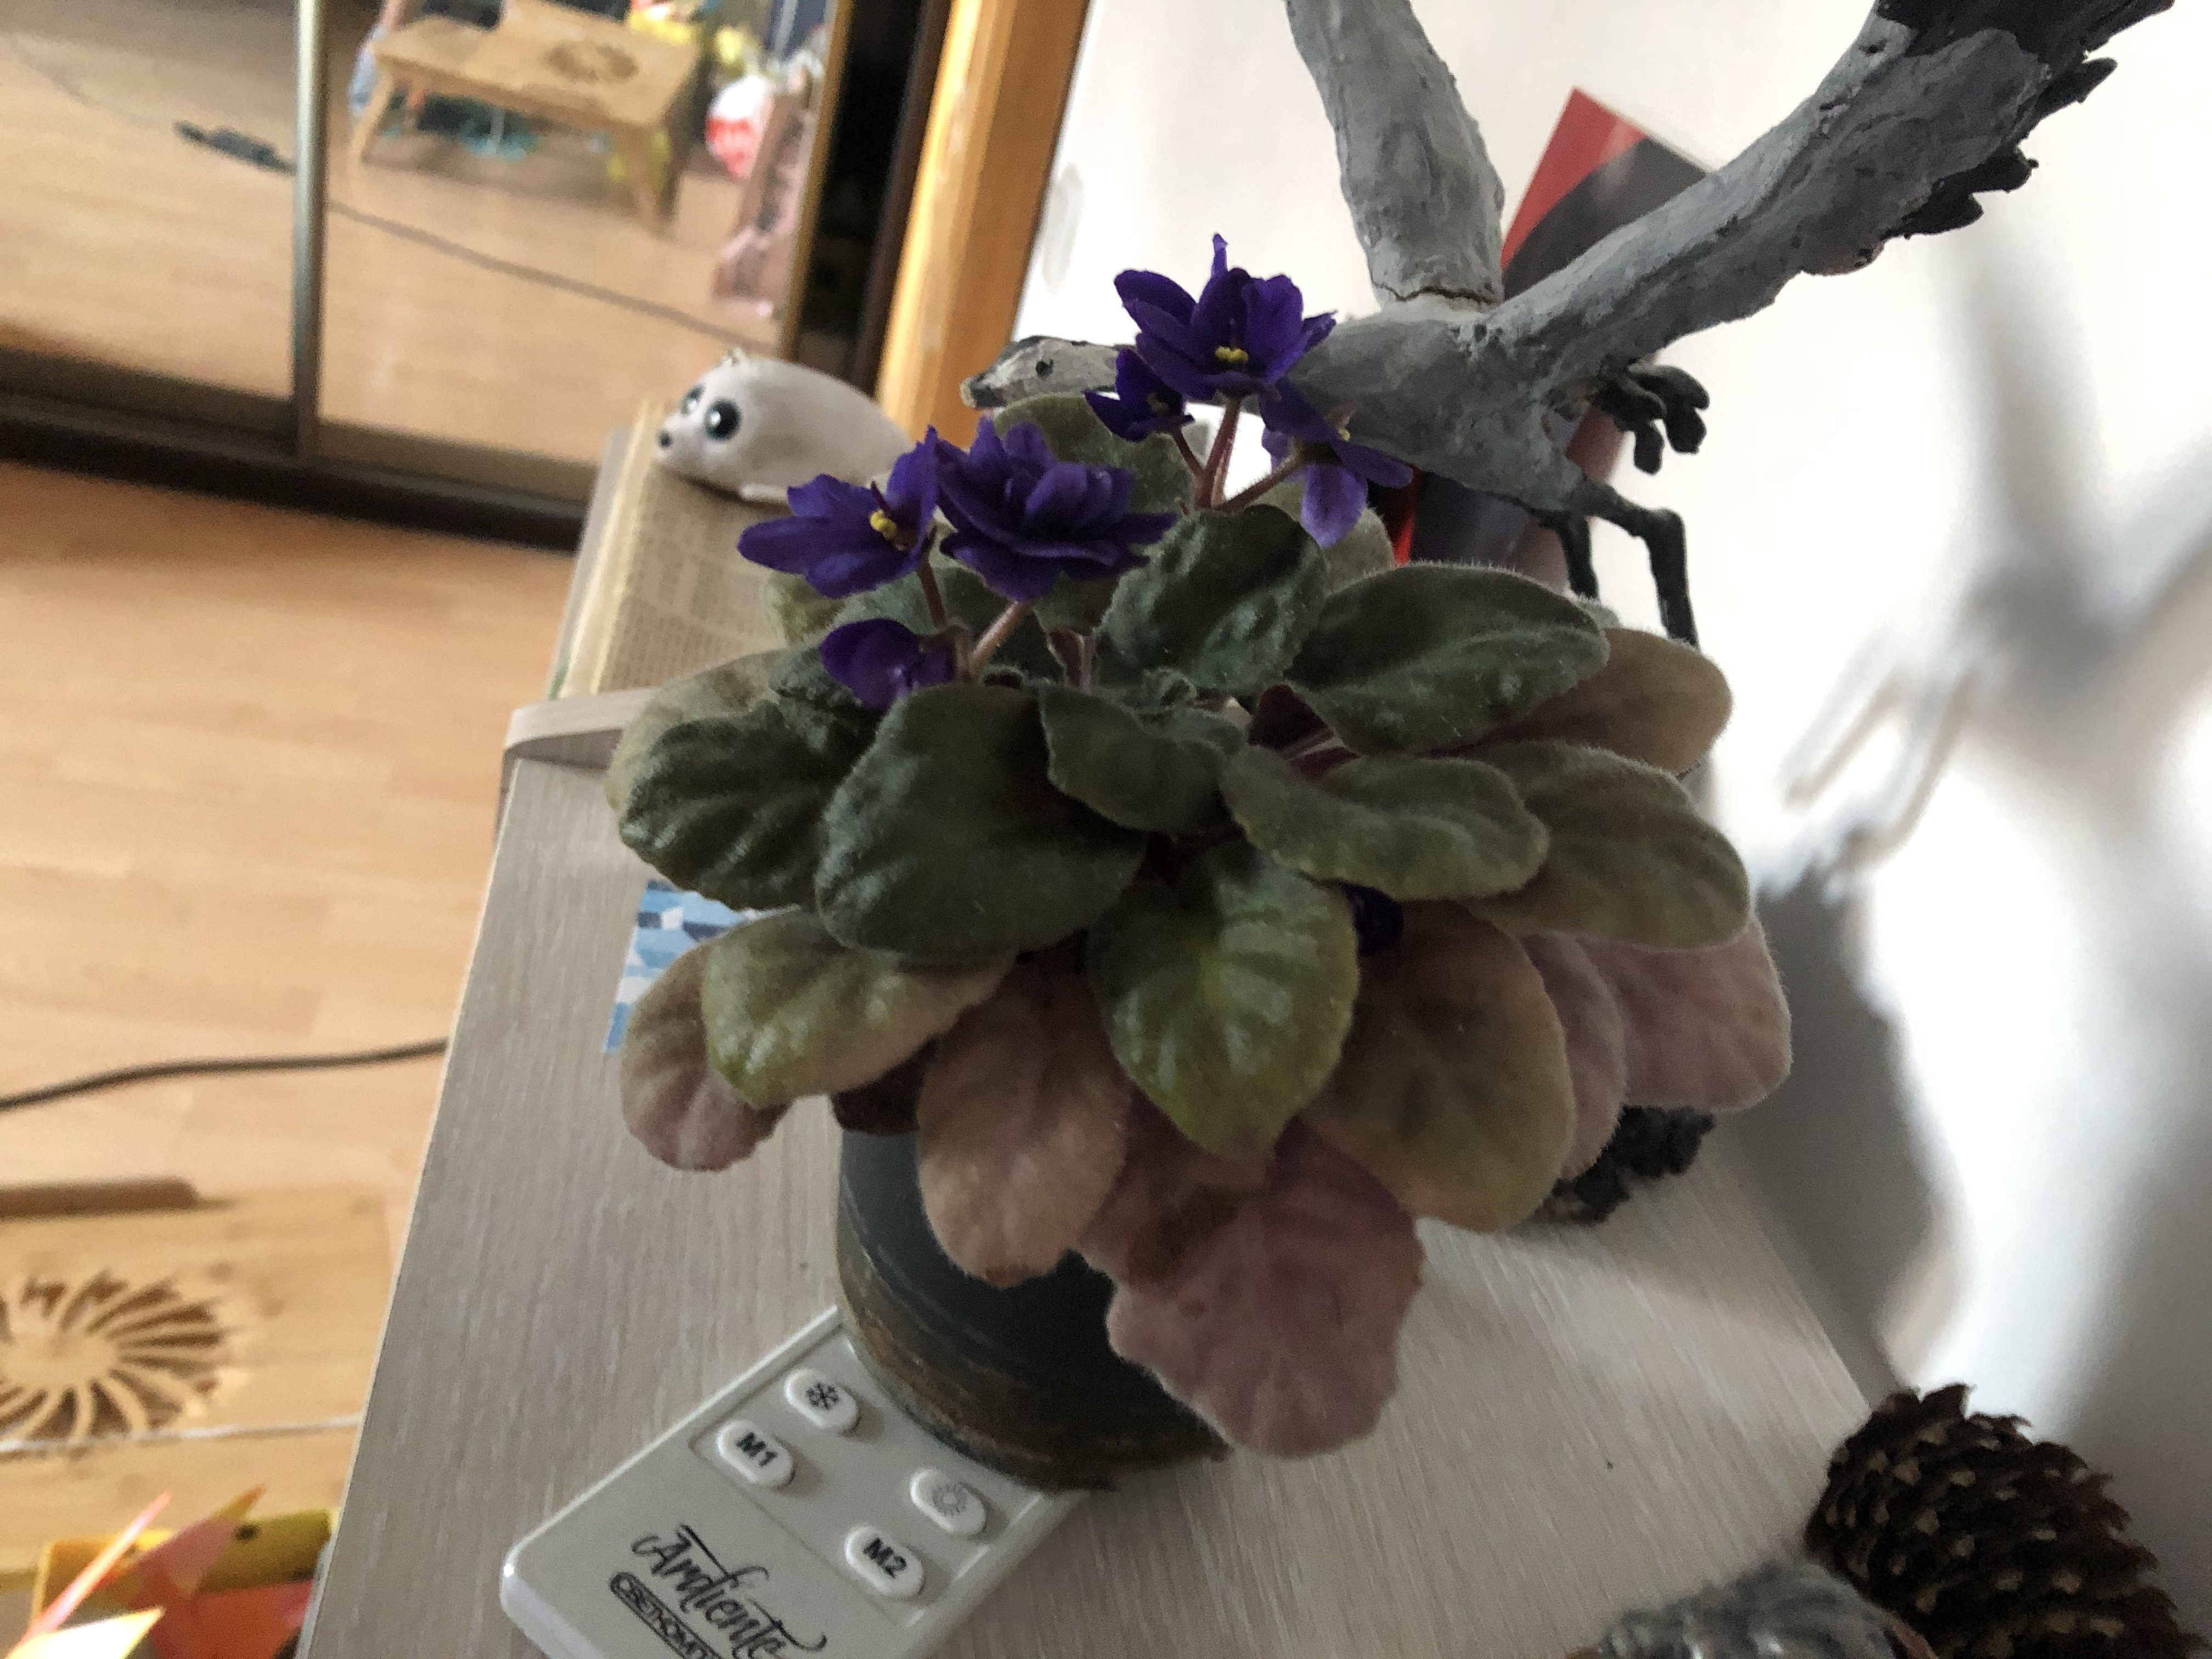ignore: (491, 235, 1811, 1478)
